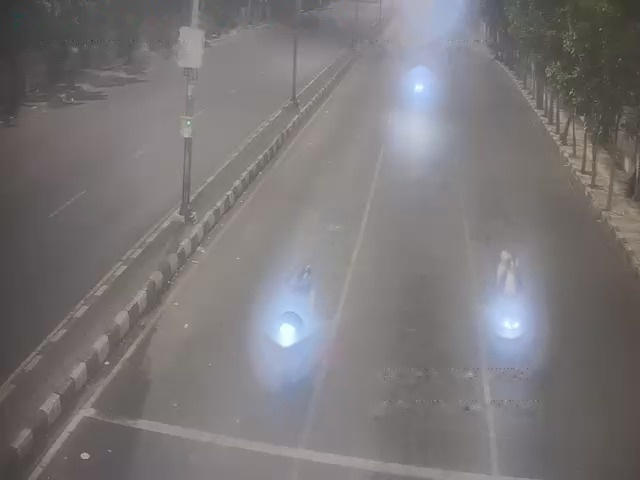Motor: (487, 248, 526, 346), (274, 302, 302, 376), (412, 78, 424, 103)
